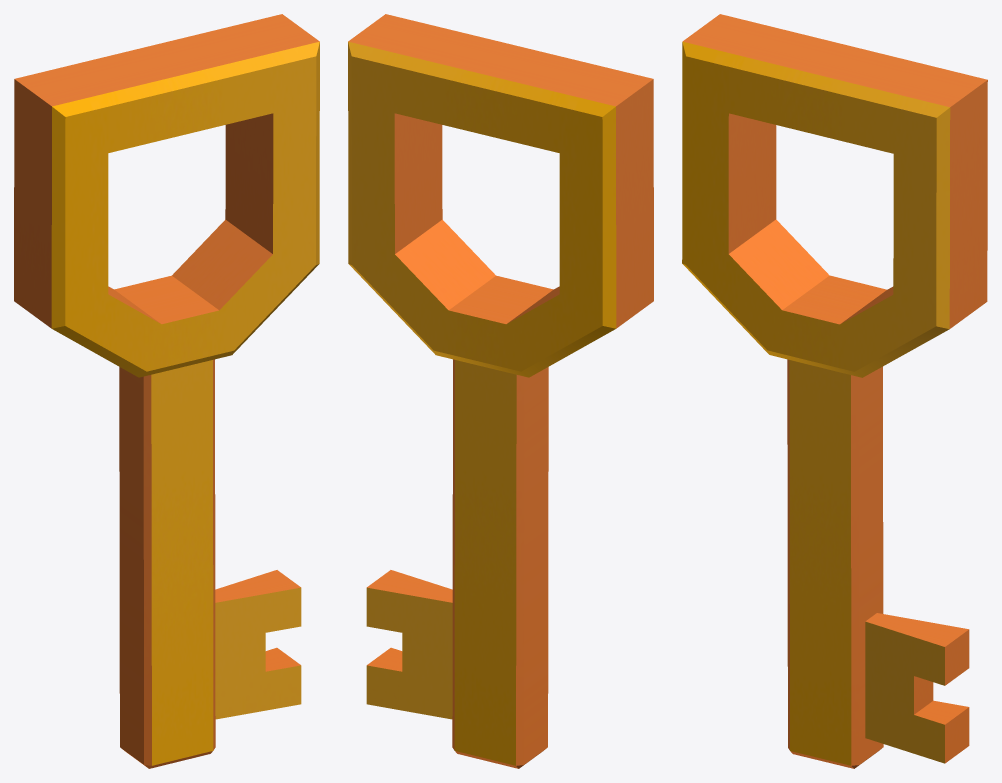
File: SM_Key.fbx
The picture shows the model from 3 angles, left to right: view 1: azimuth 30°, elevation 25°; view 2: azimuth 150°, elevation 25°; view 3: azimuth 330°, elevation 25°; orthographic projection.
Visible parts, largest first — view 1: SM_Key; view 2: SM_Key; view 3: SM_Key.
Part boxes in pixels (left/top/right/bottom): SM_Key: left=14, top=14, right=319, bottom=768; SM_Key: left=348, top=14, right=653, bottom=768; SM_Key: left=682, top=14, right=987, bottom=768.
Size of the model in its own units: 14.09 by 34.78 by 4.33.
